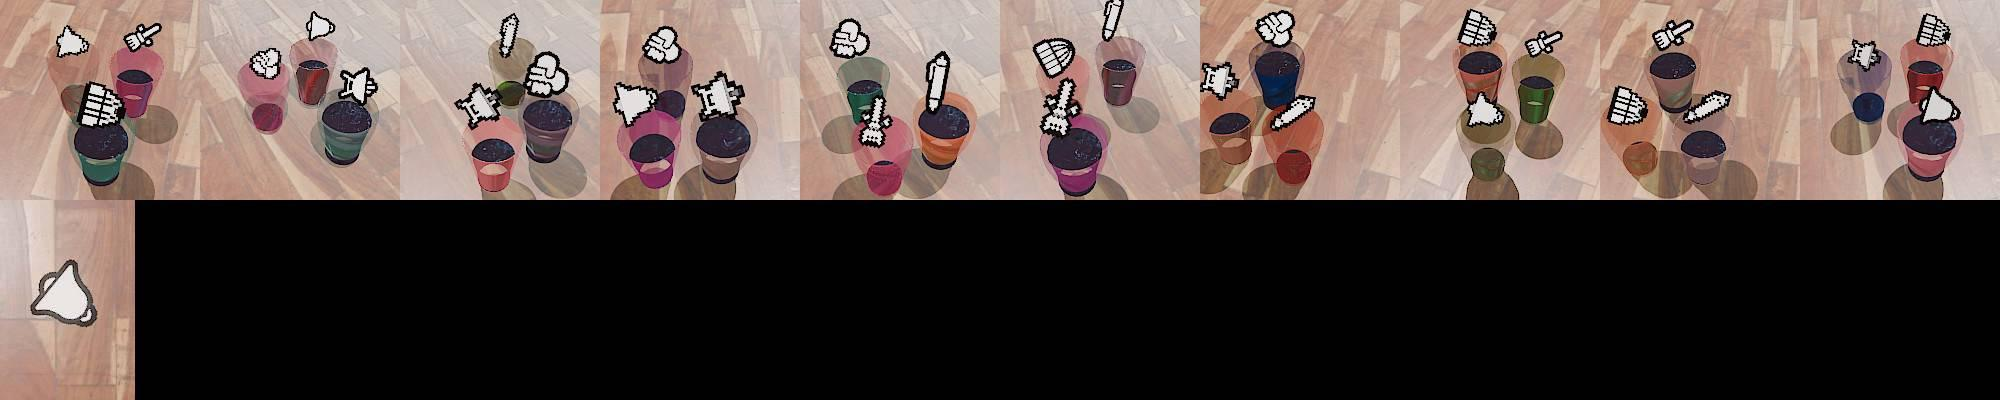icon: (29, 259, 99, 329), (691, 70, 746, 121), (77, 83, 128, 129), (1041, 80, 1080, 139), (523, 50, 570, 97), (611, 80, 659, 126), (454, 83, 501, 129), (1680, 88, 1732, 125), (856, 92, 890, 148), (1270, 93, 1318, 131), (829, 17, 871, 59), (1033, 37, 1075, 79), (1606, 84, 1649, 125), (925, 50, 950, 116), (337, 66, 378, 106), (642, 24, 681, 64), (1917, 85, 1958, 124), (1463, 90, 1506, 126), (1202, 60, 1239, 101), (1652, 18, 1695, 52), (1256, 10, 1295, 47), (1460, 8, 1496, 45), (1916, 13, 1952, 48), (52, 25, 91, 59), (1524, 28, 1564, 59), (122, 22, 162, 52), (1847, 38, 1883, 70), (249, 47, 282, 80), (304, 10, 335, 43), (497, 11, 519, 59), (1101, 0, 1124, 42)
